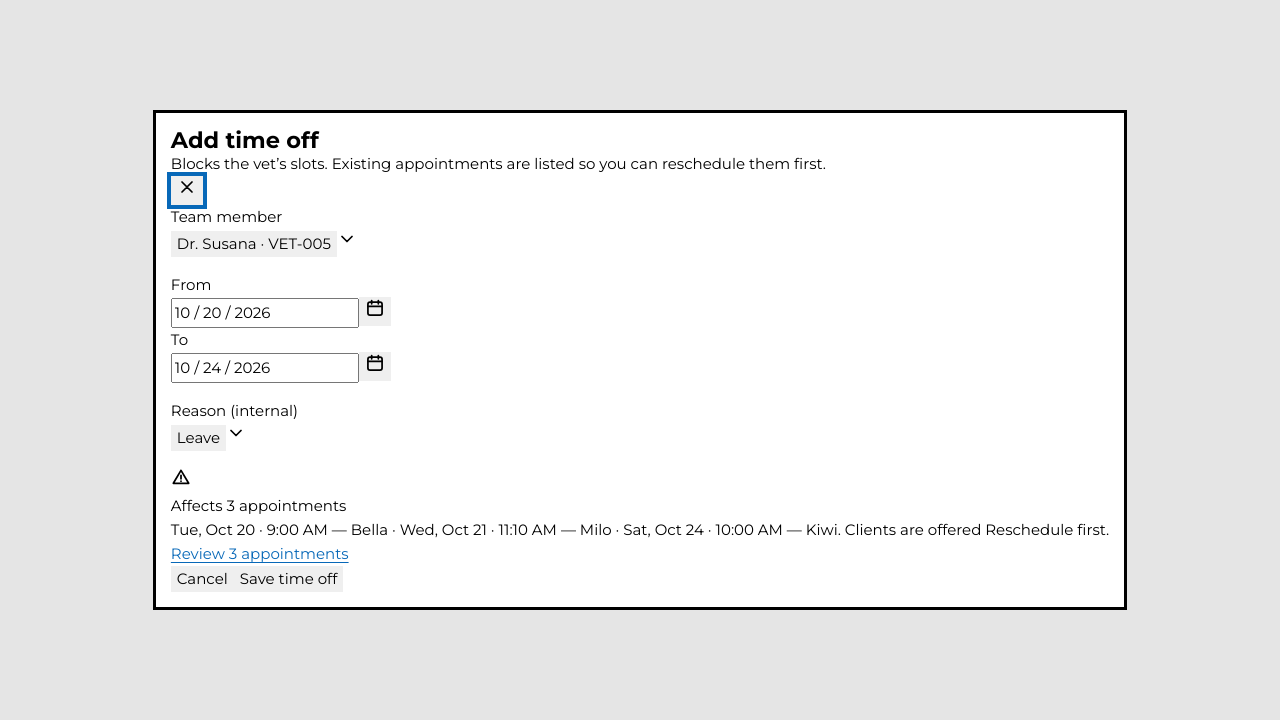
TimeOffModal › hides the warning for someone with nothing booked
Click the dropdown named "Team member" at (254, 244), box [171, 231, 337, 257]
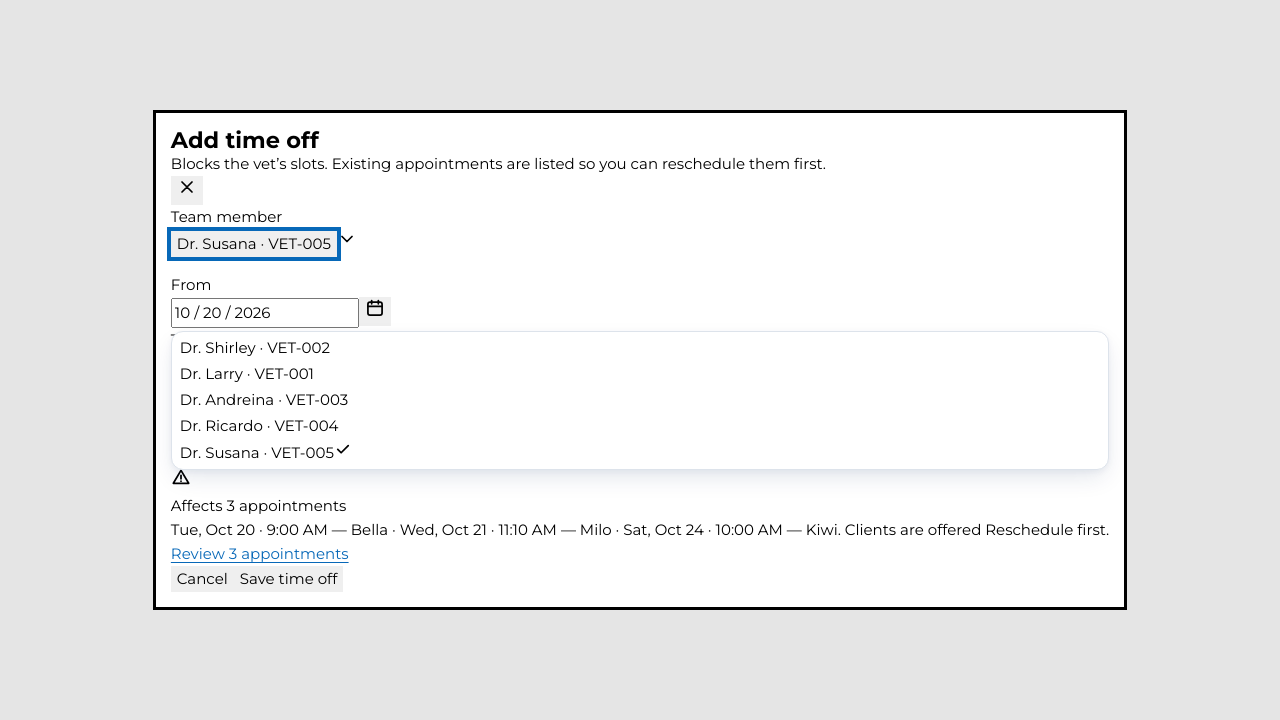
Click the option "Dr. Larry · VET-001" at (247, 373), box [180, 364, 314, 382]
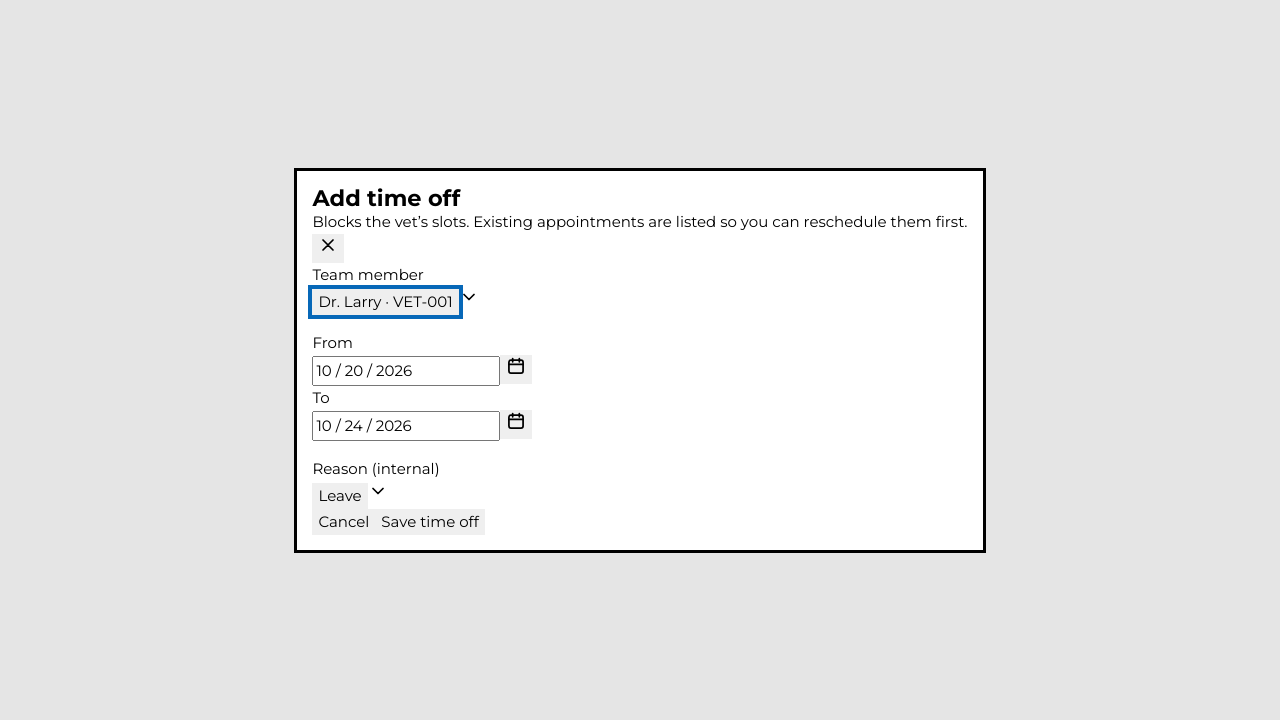
Expected: the text "Affects" is gone
